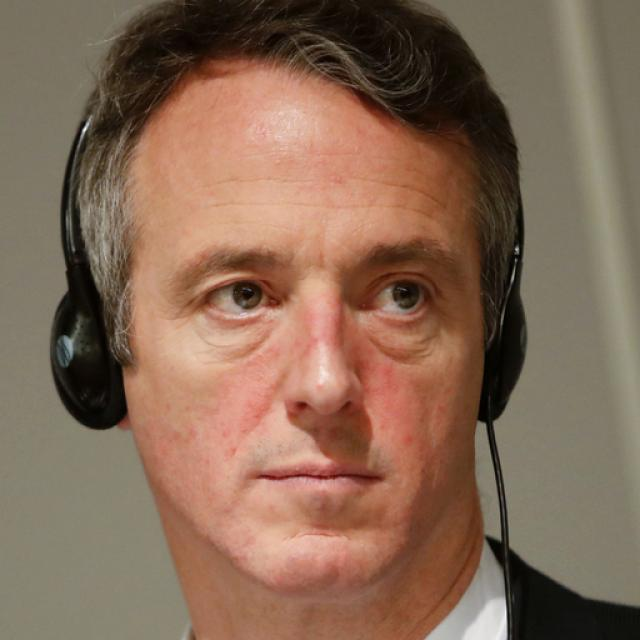neutral: (121, 54, 488, 595)
